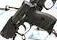gun: (1, 1, 57, 40)
